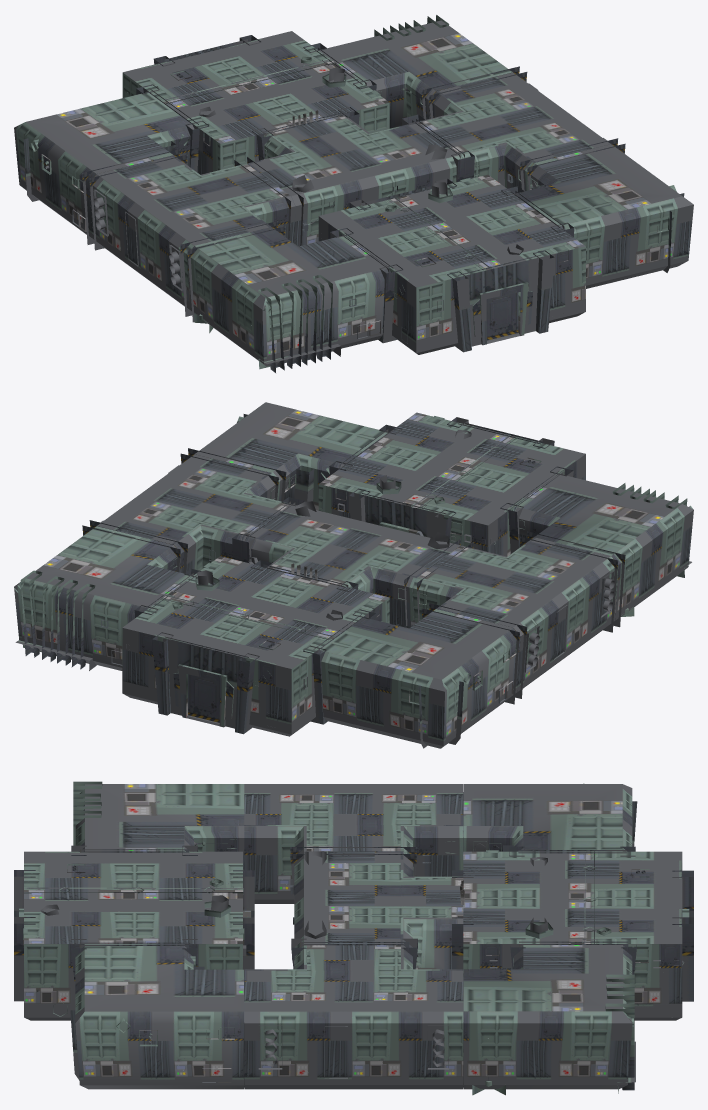
The model's file is Combined_Mesh_root_scene__21_87b8b529__zombies2_diffuse_06_4771cff4_c1f257.obj.
3 renders of one model, top to bottom at view 1: azimuth 30°, elevation 25°; view 2: azimuth 150°, elevation 25°; view 3: azimuth 270°, elevation 25°, orthographic. The views are drawn at different scales.
Bounding box in the file's own units: 52.07 × 9.64 × 62.1.
148 materials, 148 textured.
